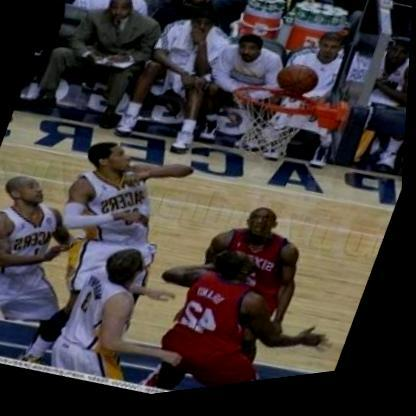basketball: (266, 58, 331, 115)
